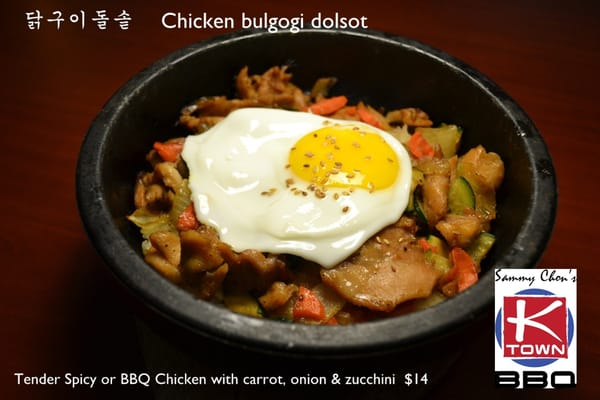sushi: (74, 18, 579, 365)
